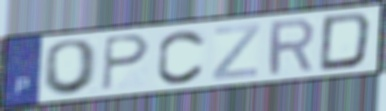C: (155, 28, 208, 86)
D: (316, 11, 375, 74)
O: (40, 37, 102, 97)
P: (100, 33, 152, 93)
R: (267, 16, 317, 79)
Z: (210, 21, 263, 82)
